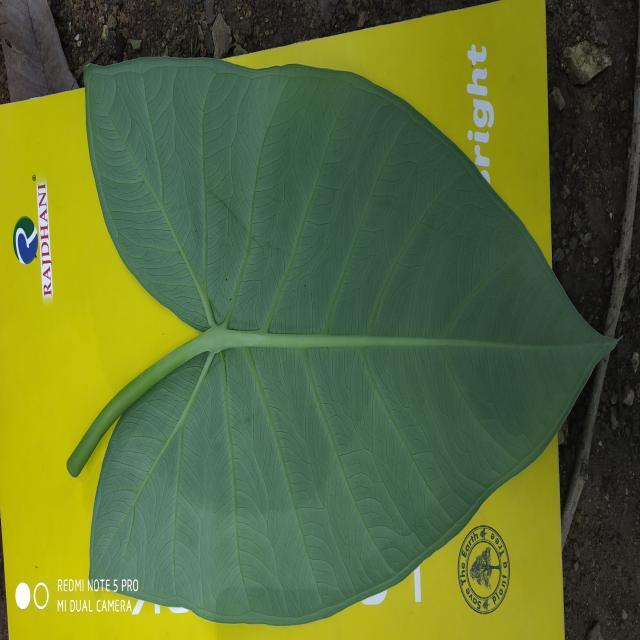leaf: (66, 54, 620, 626)
